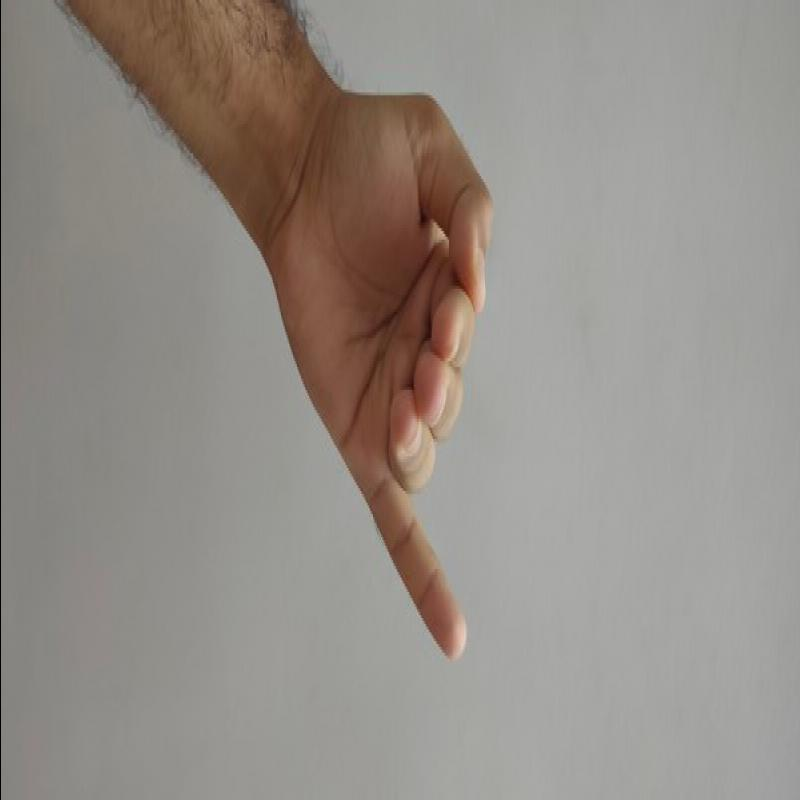Kartharee Mukham: (281, 79, 532, 670)
